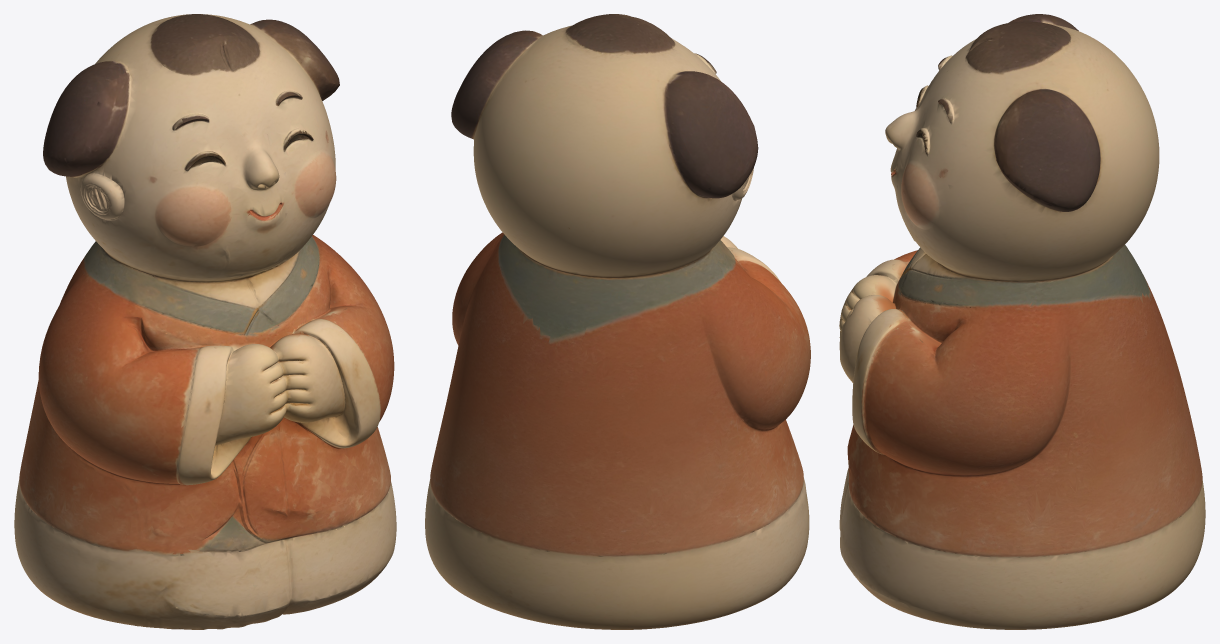
File: xiaoniren.glb
The picture shows the model from 3 angles, left to right: view 1: azimuth 30°, elevation 25°; view 2: azimuth 150°, elevation 25°; view 3: azimuth 270°, elevation 25°; orthographic projection.
Visible parts, largest first — view 1: GEO-Doll; view 2: GEO-Doll; view 3: GEO-Doll.
Boxes of the visible parts, left/top/right/bottom form: GEO-Doll: left=14, top=14, right=396, bottom=629; GEO-Doll: left=425, top=14, right=810, bottom=629; GEO-Doll: left=839, top=14, right=1205, bottom=629.
Bounding box in the file's own units: 0.6634 × 1.02 × 0.6439.
Materials: 3 (1 with a texture image).
